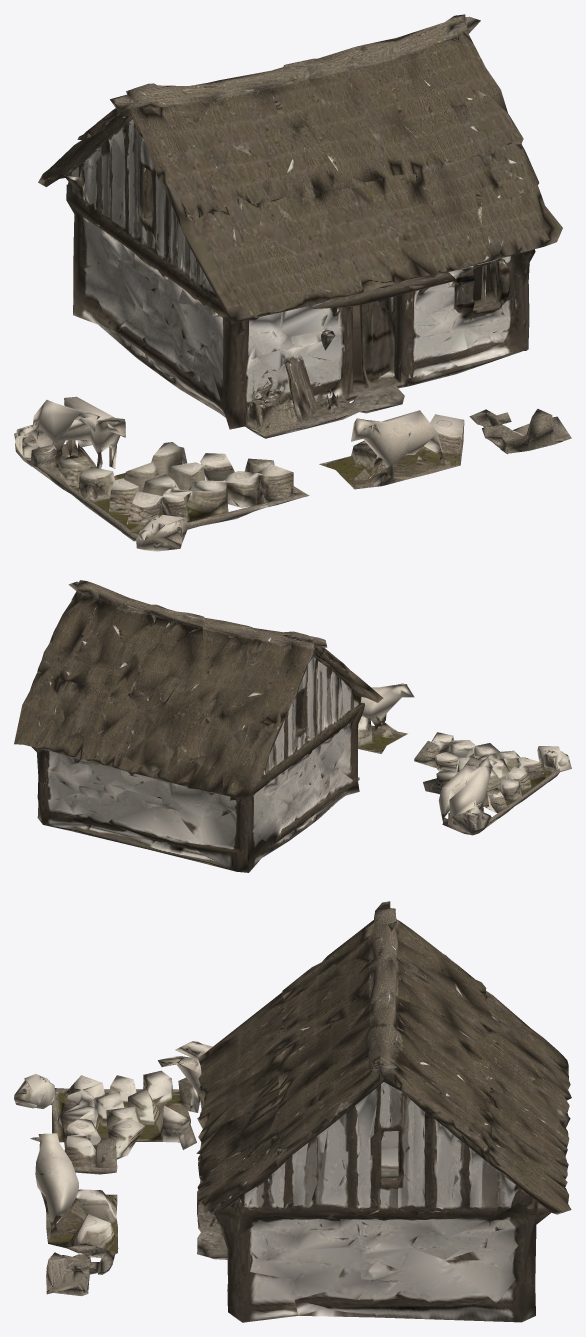
The model's file is schaffarm.glb.
3 views of the same model, one above another, from view 1: azimuth 30°, elevation 25°; view 2: azimuth 150°, elevation 25°; view 3: azimuth 270°, elevation 25° (orthographic). The views are drawn at different scales.
Bounding box in the file's own units: 1.9 × 0.9754 × 1.83.
Materials: 1 (1 with a texture image).
